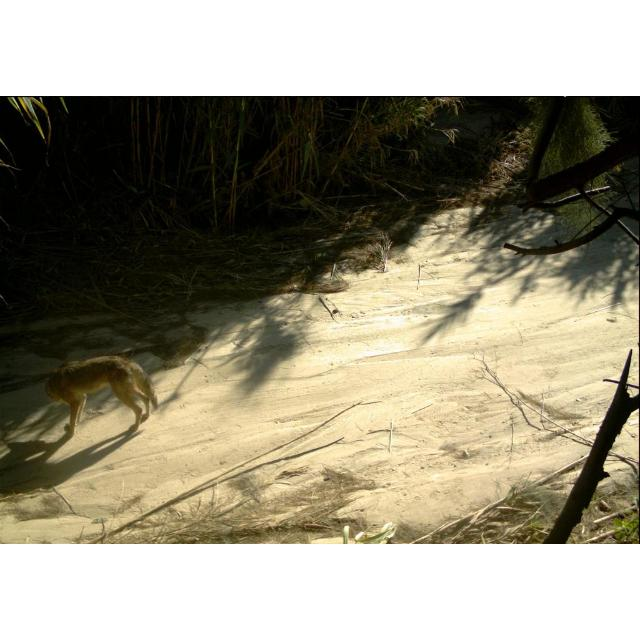animals: (40, 356, 160, 434)
